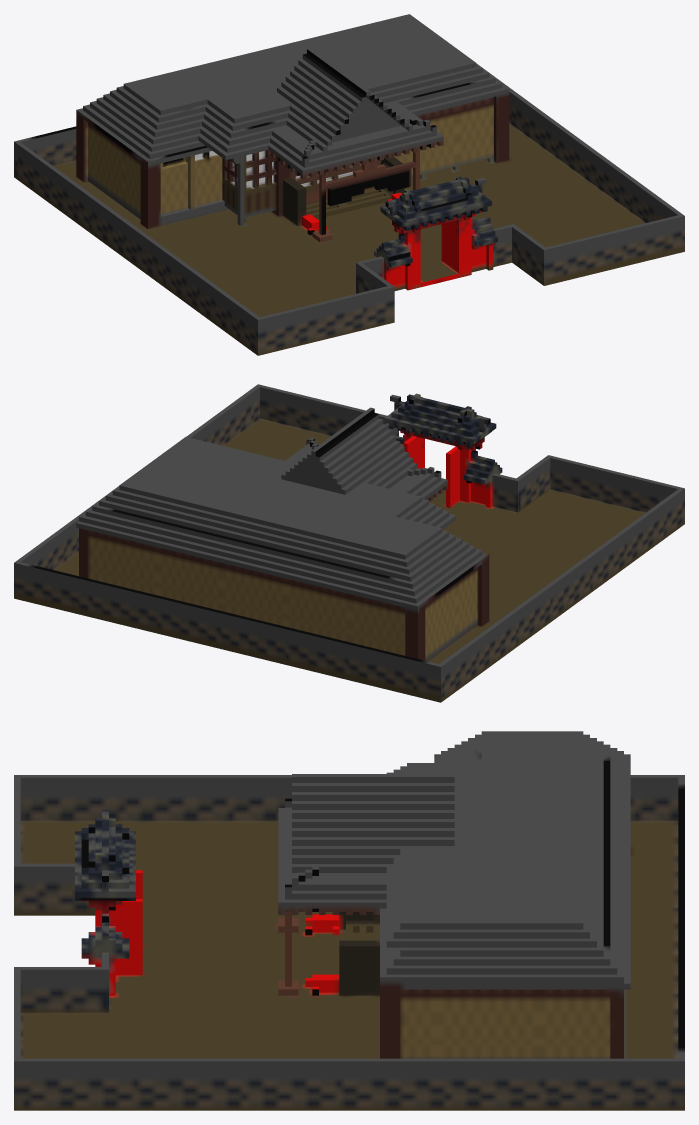
File: senganen.glb
3 views of the same model, one above another, from view 1: azimuth 30°, elevation 25°; view 2: azimuth 150°, elevation 25°; view 3: azimuth 270°, elevation 25° (orthographic). The views are drawn at different scales.
Parts seen in each view (by area): view 1: senganen; view 2: senganen; view 3: senganen.
Part boxes in pixels (x1,y1,x2,y2): senganen: [14, 14, 684, 355]; senganen: [14, 384, 684, 702]; senganen: [14, 731, 684, 1110].
Size of the model in its own units: 2 by 0.62 by 1.98.
1 material, 1 textured.
